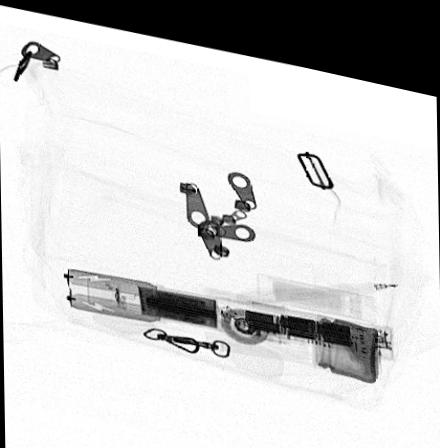Baton: (62, 262, 400, 344)
